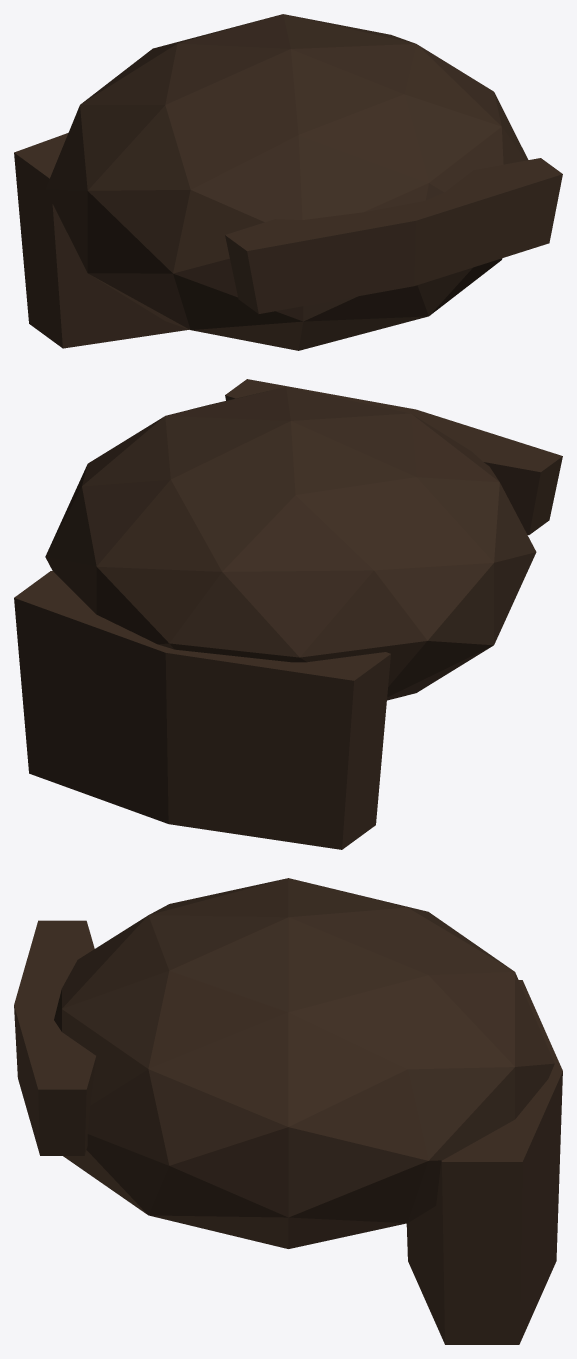
The model's file is hair.short.glb.
3 views of the same model, one above another, from view 1: azimuth 30°, elevation 25°; view 2: azimuth 150°, elevation 25°; view 3: azimuth 270°, elevation 25° (orthographic). The views are drawn at different scales.
Visible parts, largest first — view 1: head@short.team.hair; view 2: head@short.team.hair; view 3: head@short.team.hair.
Part boxes in pixels (x1=…): head@short.team.hair: x1=14, y1=14, x2=562, y2=350; head@short.team.hair: x1=14, y1=379, x2=562, y2=849; head@short.team.hair: x1=14, y1=878, x2=562, y2=1344.
Size of the model in its own units: 0.3186 by 0.235 by 0.34.
